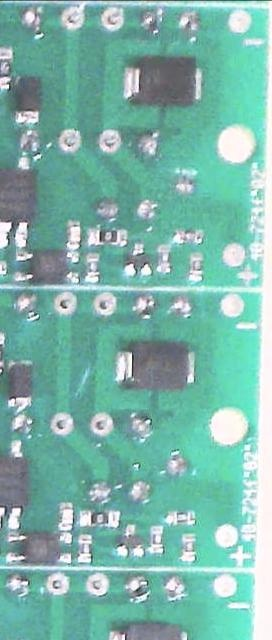chip-capacitor: (59, 503, 72, 529), (69, 221, 80, 244)
chip-resistor: (81, 510, 119, 527), (87, 229, 125, 243), (165, 511, 195, 525), (180, 534, 194, 562), (149, 526, 163, 554), (78, 534, 91, 562), (173, 230, 201, 243), (157, 244, 170, 272), (0, 50, 11, 82), (189, 253, 202, 279), (86, 254, 98, 282)
diode: (113, 340, 193, 392), (120, 56, 201, 104), (6, 359, 32, 405), (14, 76, 38, 123)
ic: (12, 249, 78, 283), (5, 532, 72, 564)
transistor: (124, 241, 151, 276), (115, 524, 143, 556)
